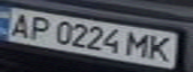0: (48, 18, 75, 46)
2: (66, 20, 90, 51), (84, 24, 106, 53)
4: (103, 26, 127, 56)
A: (3, 9, 36, 38)
K: (145, 33, 178, 63)
M: (124, 29, 154, 60)
P: (24, 13, 57, 42)
